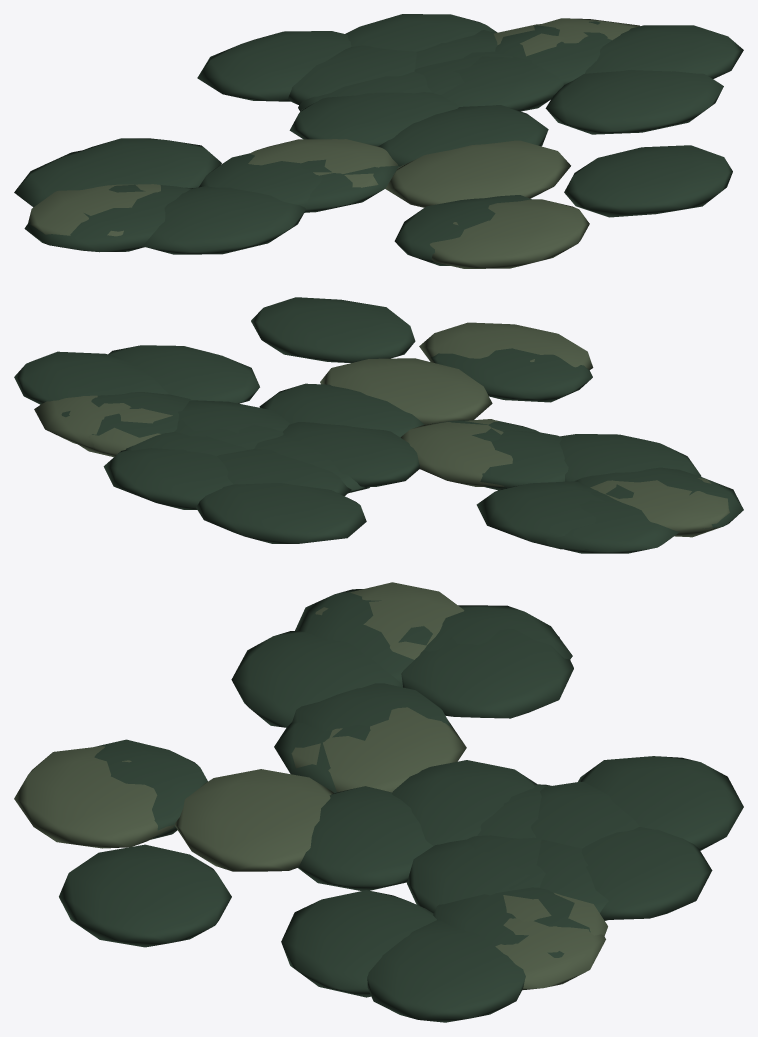
Rendered from exit-floor-mold.glb.
The picture shows the model from 3 angles, top to bottom: view 1: azimuth 30°, elevation 25°; view 2: azimuth 150°, elevation 25°; view 3: azimuth 270°, elevation 25°; orthographic projection. The views are drawn at different scales.
Visible parts, largest first — view 1: Surface; view 2: Surface; view 3: Surface.
Part boxes in pixels (<box>): Surface: <box>14,14,743,268</box>; Surface: <box>14,297,743,553</box>; Surface: <box>14,582,743,1022</box>.
Bounding box in the file's own units: 0.7288 × 0.0299 × 0.5208.
